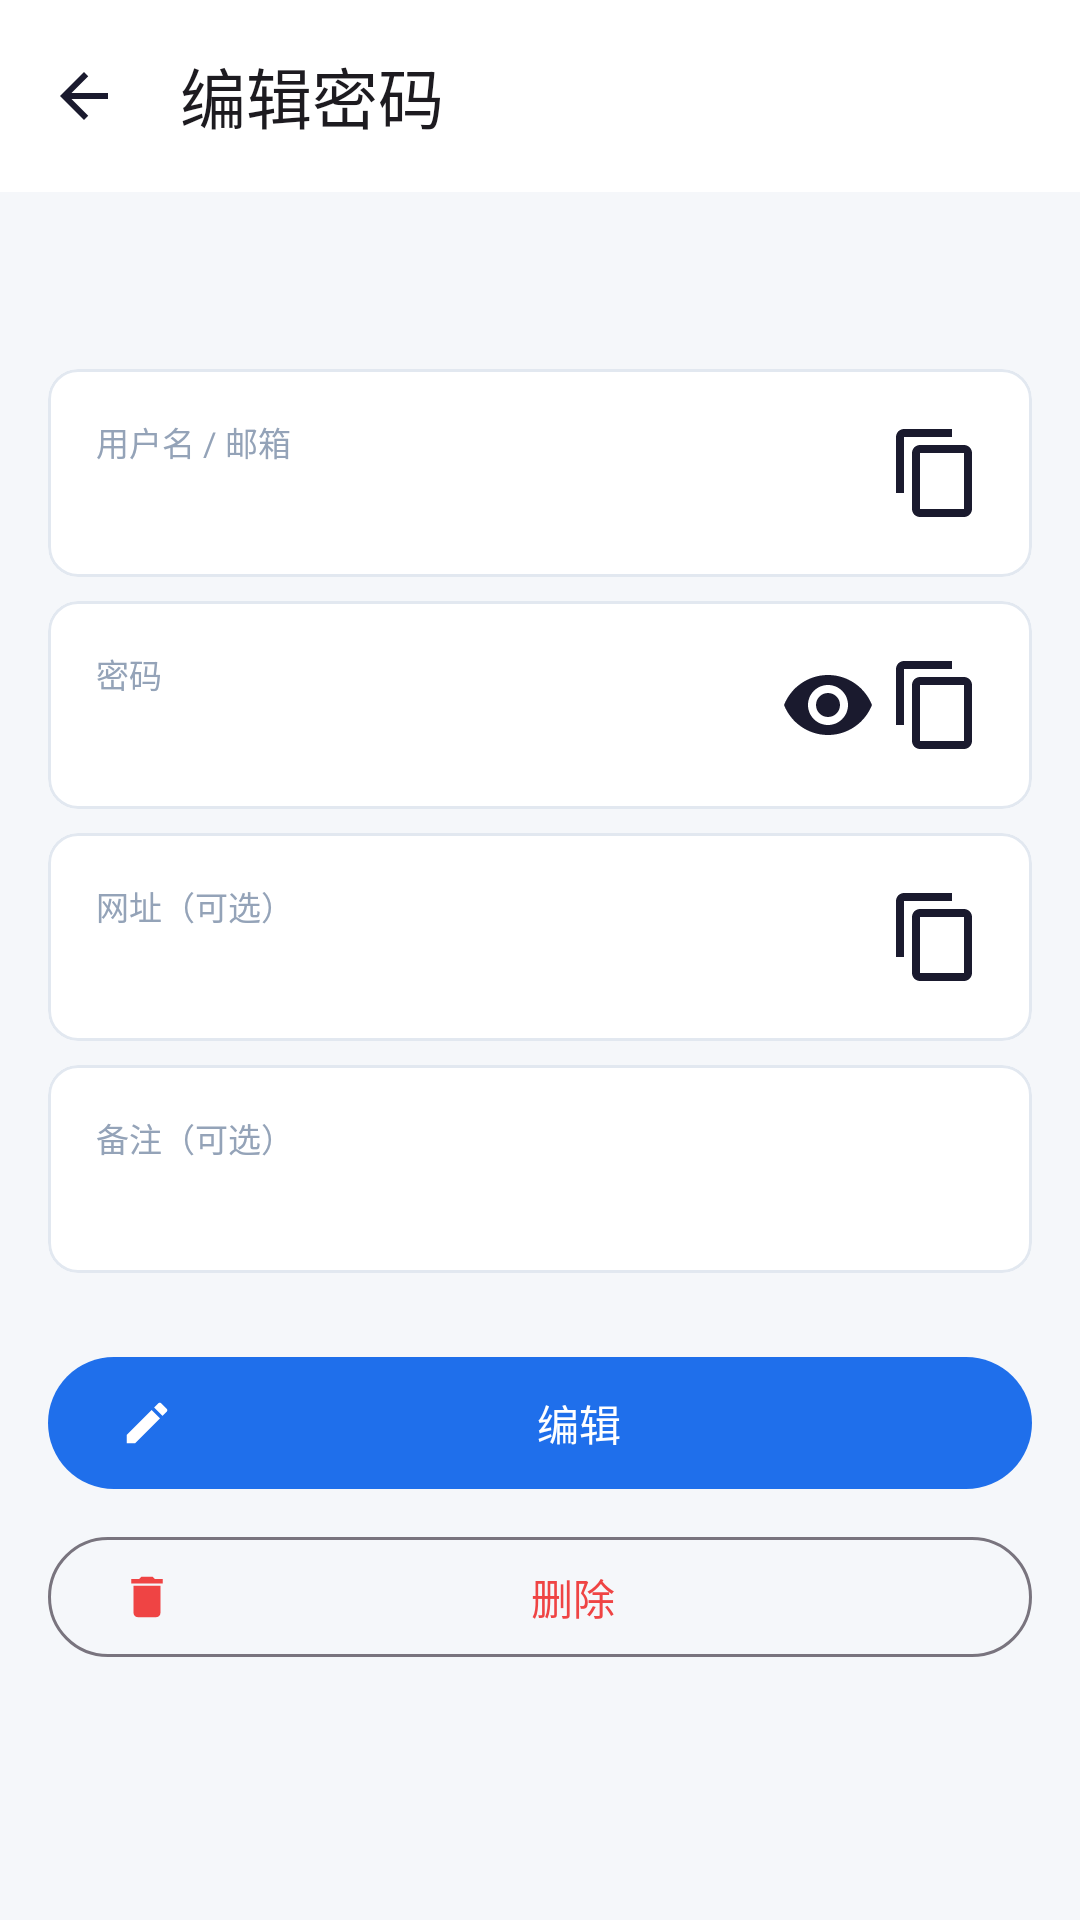

Where to tap for icons on this 1080 × 1920 app screen, as (x=x, y=y):
复制: (x=934, y=473), (x=934, y=705), (x=934, y=937)
显示/隐藏: (x=828, y=705)
